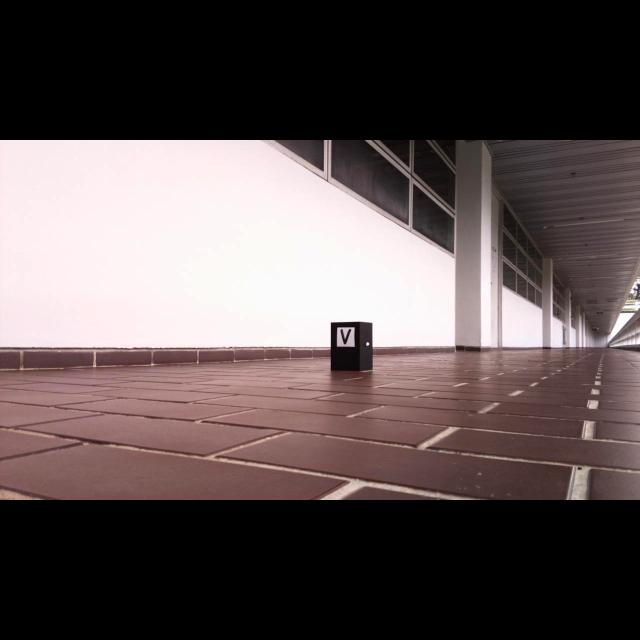V: (340, 329, 351, 345)
